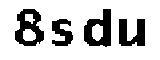8: (12, 5, 45, 53)
d: (79, 4, 114, 55)
s: (47, 17, 77, 49)
u: (113, 10, 154, 51)
